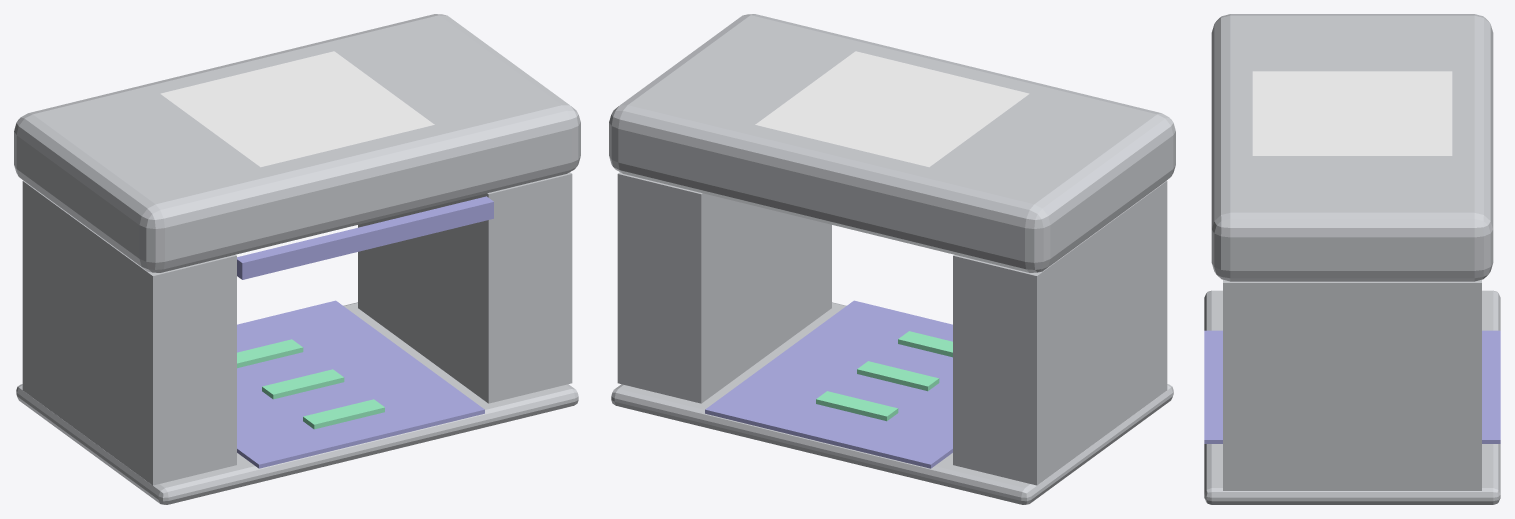
The model's file is gateway.glb.
3 views of the same model, side by side, from view 1: azimuth 30°, elevation 25°; view 2: azimuth 150°, elevation 25°; view 3: azimuth 270°, elevation 25° (orthographic).
Visible parts, largest first — view 1: gw_pillars, gw_beam, gw_lane, gw_logo, gw_floor, gw_glow, gw_chevrons; view 2: gw_pillars, gw_beam, gw_lane, gw_logo, gw_floor, gw_chevrons; view 3: gw_beam, gw_pillars, gw_logo, gw_floor, gw_lane.
Boxes of the visible parts, x1=… form: gw_pillars: x1=22, y1=172, x2=572, y2=485; gw_beam: x1=14, y1=14, x2=580, y2=272; gw_lane: x1=237, y1=300, x2=484, y2=468; gw_logo: x1=160, y1=51, x2=434, y2=167; gw_floor: x1=16, y1=302, x2=578, y2=504; gw_glow: x1=237, y1=196, x2=493, y2=279; gw_chevrons: x1=237, y1=339, x2=384, y2=429; gw_pillars: x1=617, y1=172, x2=1167, y2=485; gw_beam: x1=609, y1=14, x2=1175, y2=272; gw_lane: x1=705, y1=300, x2=952, y2=468; gw_logo: x1=755, y1=51, x2=1029, y2=167; gw_floor: x1=611, y1=302, x2=1173, y2=504; gw_chevrons: x1=816, y1=331, x2=952, y2=421; gw_beam: x1=1211, y1=14, x2=1493, y2=281; gw_pillars: x1=1223, y1=279, x2=1481, y2=490; gw_logo: x1=1252, y1=71, x2=1452, y2=155; gw_floor: x1=1204, y1=290, x2=1500, y2=504; gw_lane: x1=1204, y1=330, x2=1500, y2=443.
Bounding box in the file's own units: 1.36 × 0.8715 × 0.8.
